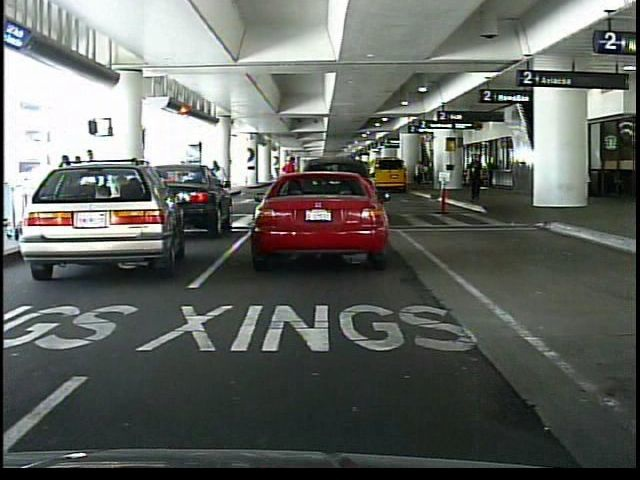person: (86, 147, 105, 221), (209, 157, 230, 213), (280, 154, 298, 207), (466, 154, 485, 201), (413, 155, 426, 191)
